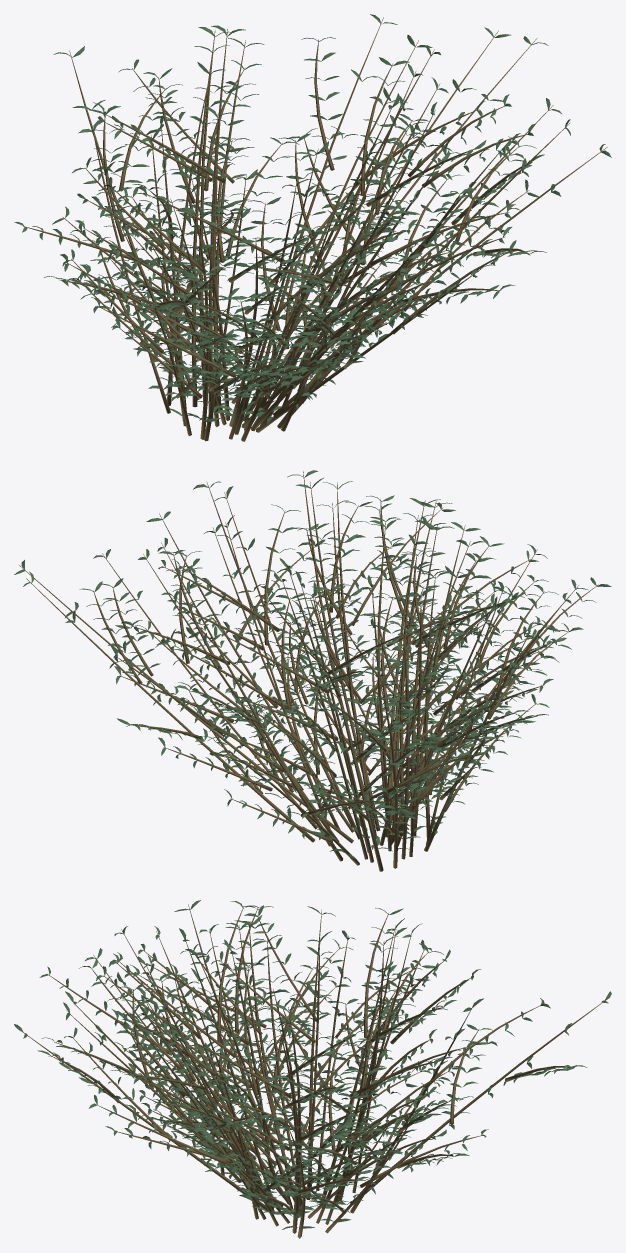
The model's file is Romarin_Incline_LOD0.fbx.
The picture shows the model from 3 angles, top to bottom: view 1: azimuth 30°, elevation 25°; view 2: azimuth 150°, elevation 25°; view 3: azimuth 270°, elevation 25°; orthographic projection. The views are drawn at different scales.
Visible parts, largest first — view 1: Romarin_Incline; view 2: Romarin_Incline; view 3: Romarin_Incline.
Part boxes in pixels (<box>): Romarin_Incline: <box>14,14,611,441</box>; Romarin_Incline: <box>14,470,611,871</box>; Romarin_Incline: <box>14,900,611,1238</box>.
Bounding box in the file's own units: 95.49 × 58.68 × 104.
